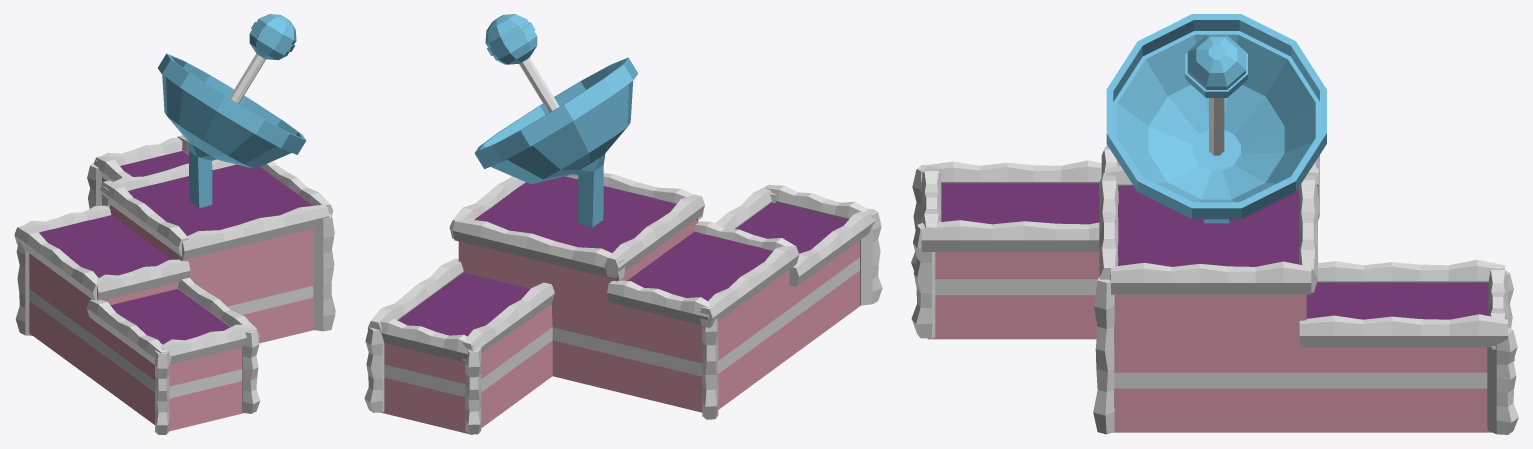
File: Tower_Support_RangeUpFinal.fbx
3 views of the same model, side by side, from view 1: azimuth 30°, elevation 25°; view 2: azimuth 150°, elevation 25°; view 3: azimuth 270°, elevation 25° (orthographic). The views are drawn at different scales.
Visible parts, largest first — view 1: Cube.029, Cube.069, Cube.031; view 2: Cube.029, Cube.069, Cube.031; view 3: Cube.029, Cube.069, Cube.031.
Part boxes in pixels (left/top/right/bottom): Cube.029: left=29, top=151, right=313, bottom=431; Cube.069: left=14, top=135, right=335, bottom=434; Cube.031: left=158, top=14, right=306, bottom=207; Cube.029: left=380, top=176, right=860, bottom=434; Cube.069: left=364, top=173, right=882, bottom=434; Cube.031: left=474, top=14, right=638, bottom=227; Cube.029: left=927, top=183, right=1491, bottom=432; Cube.069: left=911, top=145, right=1518, bottom=434; Cube.031: left=1106, top=14, right=1326, bottom=223.
Bounding box in the file's own units: 179 × 196 × 278.
